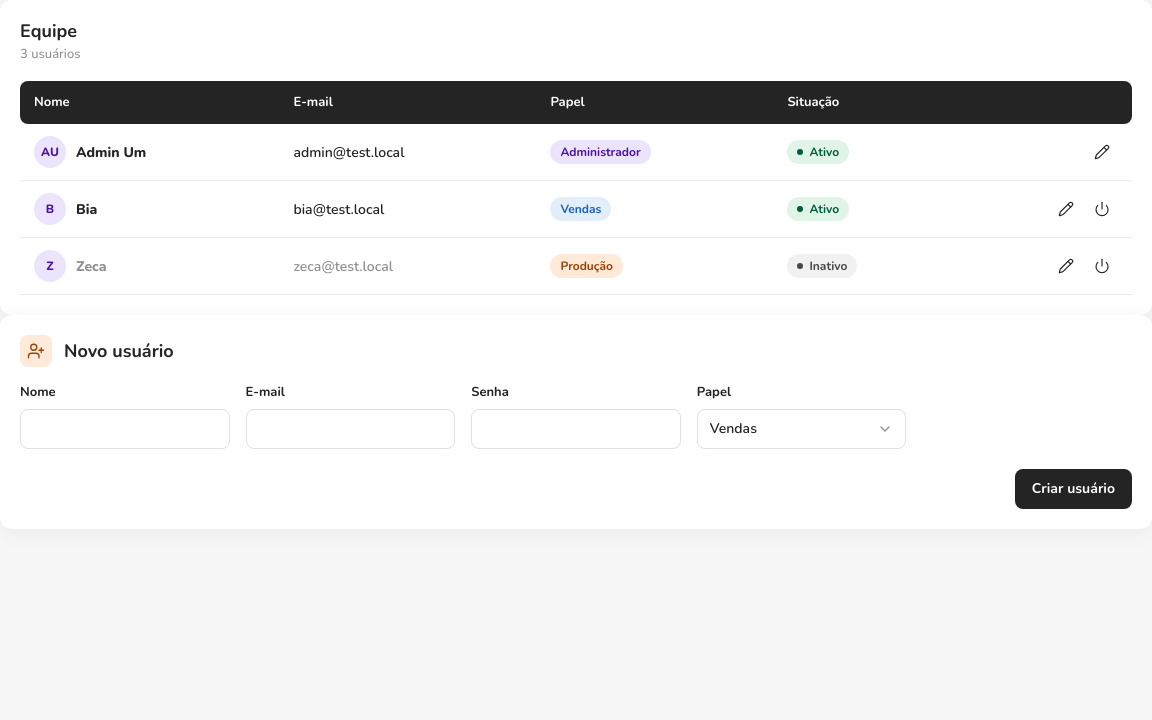
Users page › toggling active sends the patch and reflects errors
The image size is (1152, 720).
Step 1. Click the button named "Desativar" → (1102, 209), box 1086,193 -> 1118,225
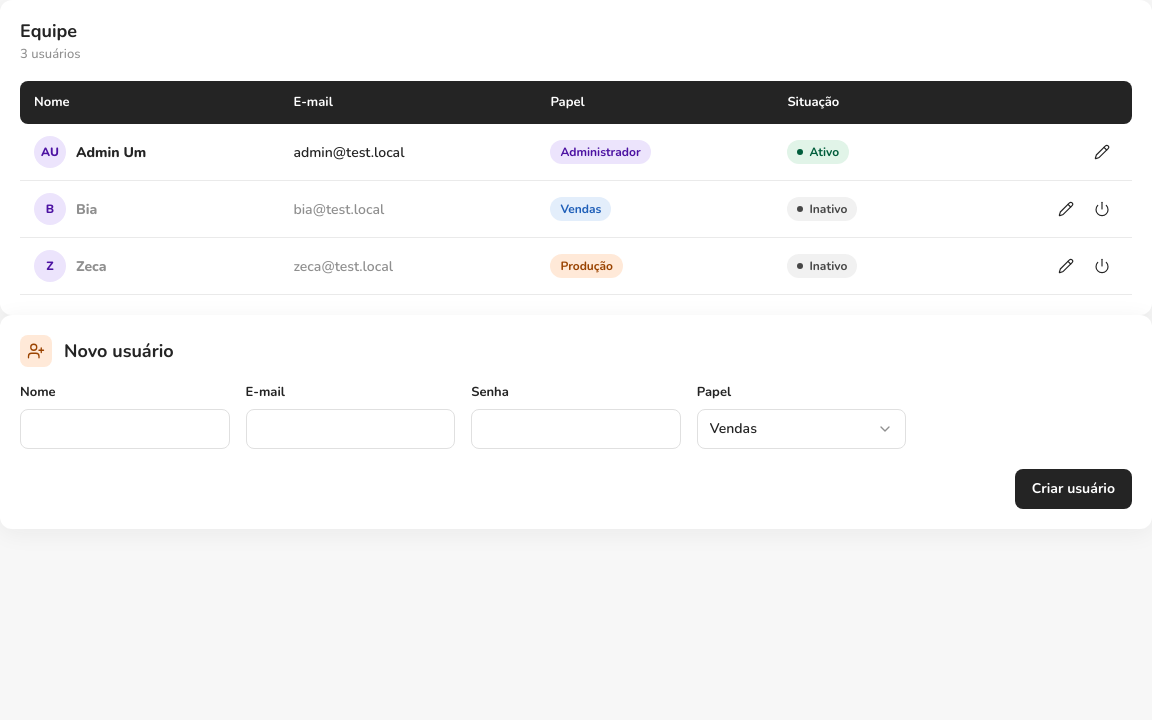
Check: the text "Inativo" is shown, box 787,197 -> 857,221
Step 2. Click the button named "Ativar" in the row of "bia@test.local" → (1102, 209), box 1086,193 -> 1118,225
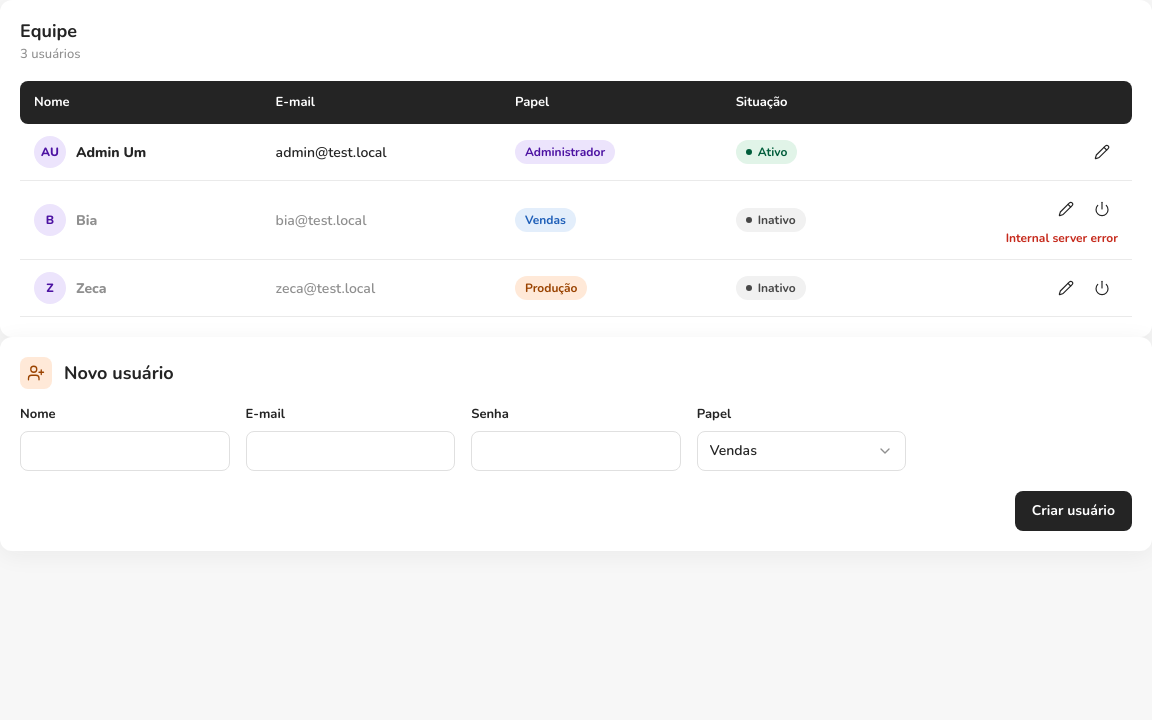
Check: the text "Inativo" is shown, box 736,208 -> 806,232
Check: the text "Internal server error" is shown, box 1006,229 -> 1118,247
